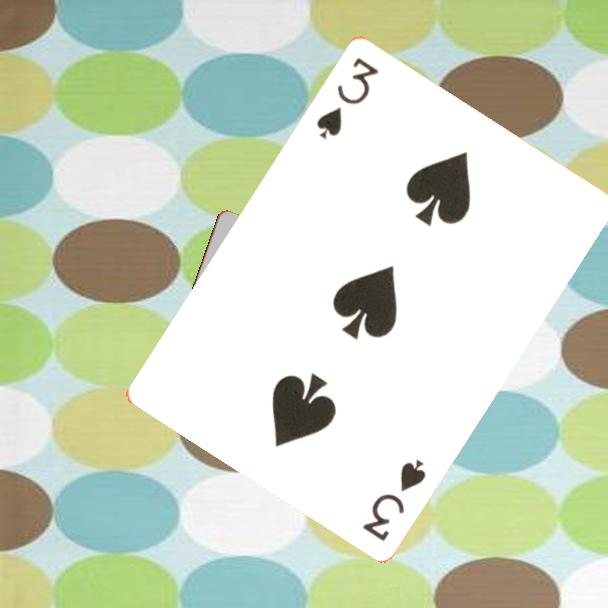s03: (358, 455, 429, 544), (312, 53, 382, 142)
